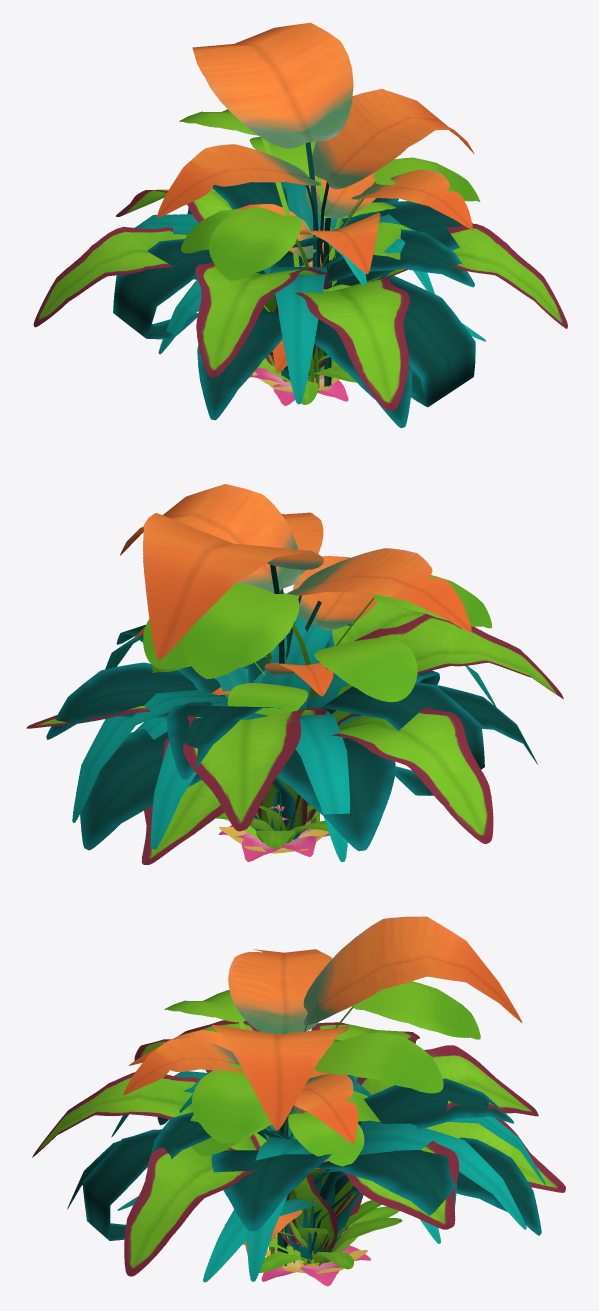
Rendered from SM_Foliage.fbx.
3 renders of one model, top to bottom at view 1: azimuth 30°, elevation 25°; view 2: azimuth 150°, elevation 25°; view 3: azimuth 270°, elevation 25°, orthographic. The views are drawn at different scales.
Parts seen in each view (by area): view 1: SM_Plant_03, SM_Plant_01, SM_Plant_04, SM_Plant_05, SM_Plant_02, SM_Flower_02, SM_Plant_07; view 2: SM_Plant_03, SM_Plant_01, SM_Plant_04, SM_Plant_05, SM_Plant_02, SM_Flower_02, SM_Plant_07, SM_Plant_06, SM_Flower; view 3: SM_Plant_03, SM_Plant_01, SM_Plant_04, SM_Plant_05, SM_Plant_02, SM_Plant_07, SM_Flower_02, SM_Plant_06.
Boxes of the visible parts, <box> form: SM_Plant_03: <box>157,22,474,386</box>; SM_Plant_01: <box>33,177,567,410</box>; SM_Plant_04: <box>113,182,475,428</box>; SM_Plant_05: <box>179,109,480,391</box>; SM_Plant_02: <box>135,182,485,404</box>; SM_Flower_02: <box>250,367,348,405</box>; SM_Plant_07: <box>258,355,355,404</box>; SM_Plant_03: <box>120,484,471,696</box>; SM_Plant_01: <box>26,600,563,864</box>; SM_Plant_04: <box>46,593,537,851</box>; SM_Plant_05: <box>143,575,492,830</box>; SM_Plant_02: <box>72,615,496,862</box>; SM_Flower_02: <box>218,821,329,861</box>; SM_Plant_07: <box>217,804,328,847</box>; SM_Plant_06: <box>216,806,327,848</box>; SM_Flower: <box>219,827,328,853</box>; SM_Plant_03: <box>123,916,522,1266</box>; SM_Plant_01: <box>32,1020,565,1276</box>; SM_Plant_04: <box>67,1075,541,1254</box>; SM_Plant_05: <box>164,981,480,1263</box>; SM_Plant_02: <box>111,1071,545,1282</box>; SM_Plant_07: <box>225,1200,402,1272</box>; SM_Flower_02: <box>261,1245,370,1286</box>; SM_Plant_06: <box>243,1204,401,1272</box>.
Size of the model in its own units: 111 by 71.35 by 112.
